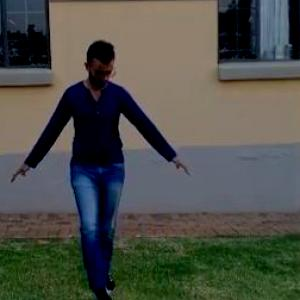land: (18, 18, 201, 298)
